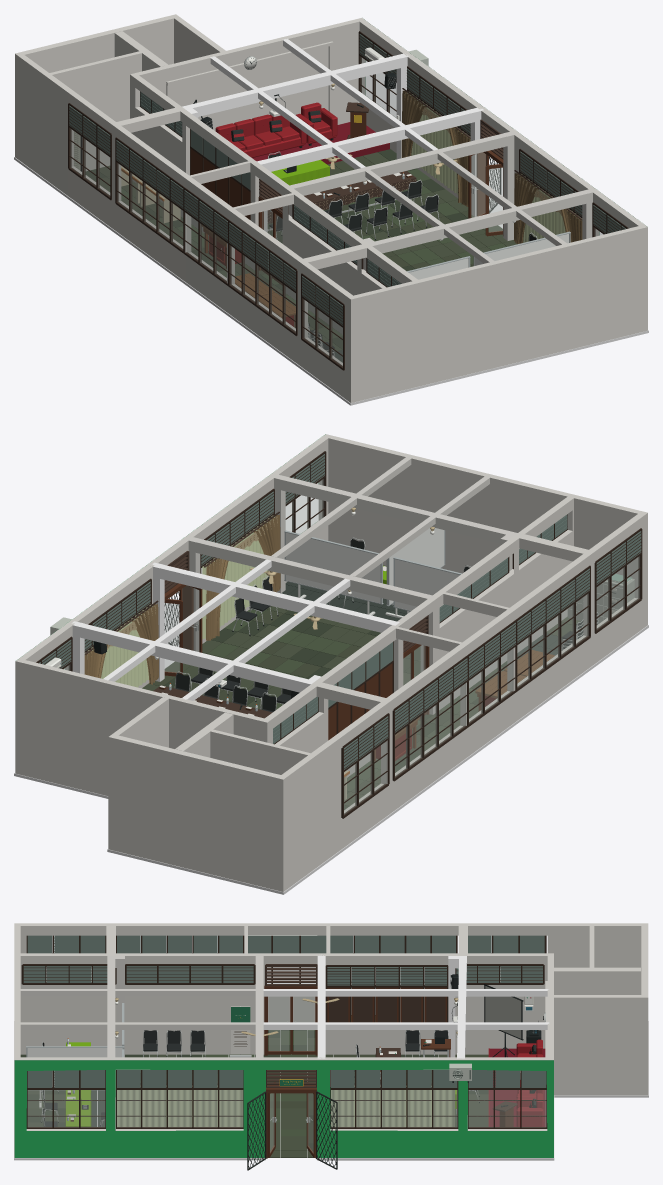
Rendered from serbaguna_indoor.glb.
3 renders of one model, top to bottom at view 1: azimuth 30°, elevation 25°; view 2: azimuth 150°, elevation 25°; view 3: azimuth 270°, elevation 25°, orthographic. The views are drawn at different scales.
Visible parts, largest first — view 1: Dinding_Belakang, Dinding_Kanan.003, Dinding_Depan_Panggung, Dinding_Kiri, Keramik_Hijau_40cm, Dinding_Kanan.002, Jendela_Kanan_Panggung.003, Jendela_Kanan_Panggung.002, Jendela_Kanan_Belakang.004, Dinding_Kanan, Balok_Melintang_1.001, Jendela_Kanan_Belakang.003 (+38 smaller); view 2: Dinding_Kanan.003, Dinding_Depan_Panggung, Dinding_Belakang, Keramik_Hijau_40cm, Dinding_Kiri, Dinding_Kanan.002, Jendela_Kanan_Panggung.002, Jendela_Kanan_Panggung.003, Jendela_Kanan_Belakang.003, Jendela_Kanan_Belakang.002, Jendela_Kanan_Belakang.004, Balok_Melintang_2 (+31 smaller); view 3: Dinding_Kiri, Dinding_Kanan.003, Plane.001, Plane, Jendela_Kanan_Panggung.001, Keramik_Hijau_40cm, Jendela_Kanan_Panggung, Jendela_Kayu_Kiri, Jendela_Kanan_Belakang.001, Jendela_Kanan_Belakang, Tirai_Tipis_Hijau_Pucat.001, Tirai_Tipis_Hijau_Pucat (+45 smaller).
Part boxes in pixels (x1,y1,x2,y2): Dinding_Belakang: (349,224,647,402); Dinding_Kanan.003: (15,14,250,311); Dinding_Depan_Panggung: (49,18,365,180); Dinding_Kiri: (133,75,417,334); Keramik_Hijau_40cm: (85,149,517,362); Dinding_Kanan.002: (227,193,366,401); Jendela_Kanan_Panggung.003: (115,137,184,253); Jendela_Kanan_Panggung.002: (228,220,297,336); Jendela_Kanan_Belakang.004: (183,187,231,285); Dinding_Kanan: (359,20,525,198); Balok_Melintang_1.001: (368,188,594,253); Jendela_Kanan_Belakang.003: (68,103,111,200); Dinding_Kanan.003: (108,609,513,891); Dinding_Depan_Panggung: (15,658,310,795); Dinding_Belakang: (322,434,647,625); Keramik_Hijau_40cm: (142,565,580,809); Dinding_Kiri: (265,496,573,777); Dinding_Kanan.002: (443,513,646,722); Jendela_Kanan_Panggung.002: (515,565,590,691); Jendela_Kanan_Panggung.003: (392,655,468,781); Jendela_Kanan_Belakang.003: (341,713,389,818); Jendela_Kanan_Belakang.002: (594,528,642,633); Jendela_Kanan_Belakang.004: (468,619,517,726); Balok_Melintang_2: (71,621,315,692); Dinding_Kiri: (20,953,547,1054); Dinding_Kanan.003: (247,923,648,1095); Plane.001: (14,1060,265,1157); Plane: (317,1060,553,1157); Jendela_Kanan_Panggung.001: (116,1070,243,1128); Keramik_Hijau_40cm: (20,1030,488,1157); Jendela_Kanan_Panggung: (330,1070,458,1128); Jendela_Kayu_Kiri: (325,965,448,1022); Jendela_Kanan_Belakang.001: (26,1070,105,1128); Jendela_Kanan_Belakang: (468,1070,547,1128); Tirai_Tipis_Hijau_Pucat.001: (117,1086,242,1126); Tirai_Tipis_Hijau_Pucat: (331,1086,454,1126).
Size of the model in its own units: 11.16 by 3.49 by 20.09.
